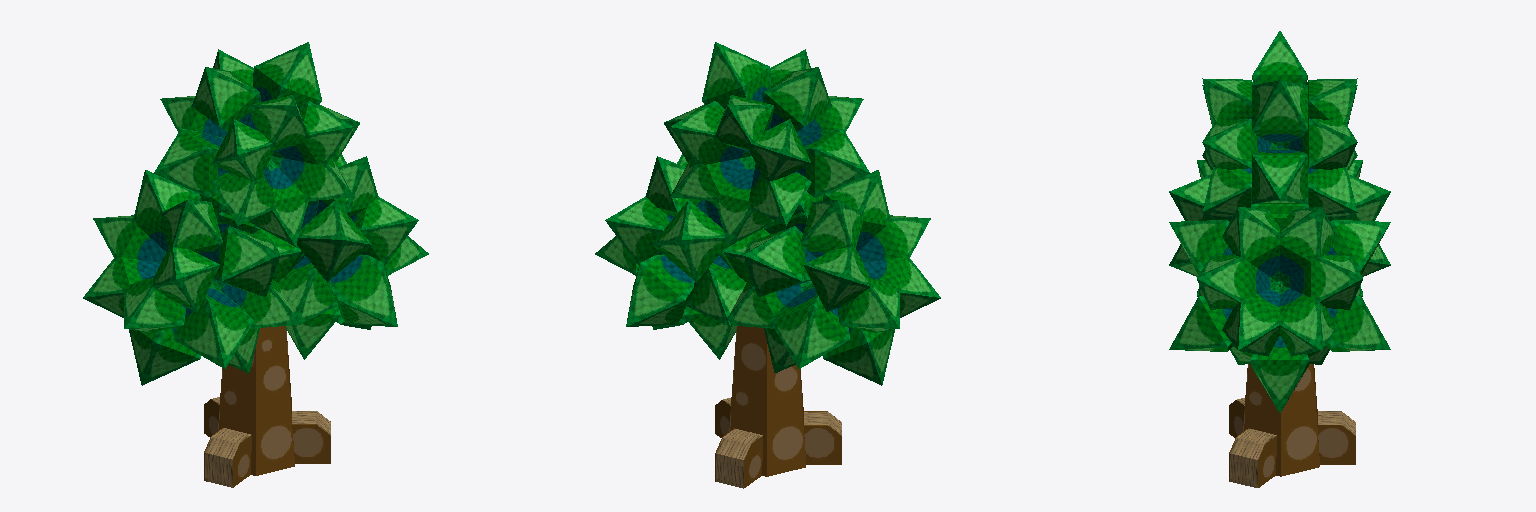
3 views of the same model, side by side, from view 1: azimuth 30°, elevation 25°; view 2: azimuth 150°, elevation 25°; view 3: azimuth 270°, elevation 25° (orthographic).
Visible parts, largest first — view 1: polySurface1783__leaf, polySurface1799__Dbt_YureTreeNa; view 2: polySurface1783__leaf, polySurface1799__Dbt_YureTreeNa; view 3: polySurface1783__leaf, polySurface1799__Dbt_YureTreeNa.
Boxes of the visible parts, x1,y1,x2,y2 form: polySurface1783__leaf: [83, 42, 428, 385]; polySurface1799__Dbt_YureTreeNa: [204, 326, 330, 487]; polySurface1783__leaf: [595, 42, 940, 385]; polySurface1799__Dbt_YureTreeNa: [715, 326, 841, 488]; polySurface1783__leaf: [1169, 31, 1390, 412]; polySurface1799__Dbt_YureTreeNa: [1229, 285, 1355, 487].
Bounding box in the file's own units: 46.26 × 58.34 × 29.18.
Materials: 2 (2 with a texture image).